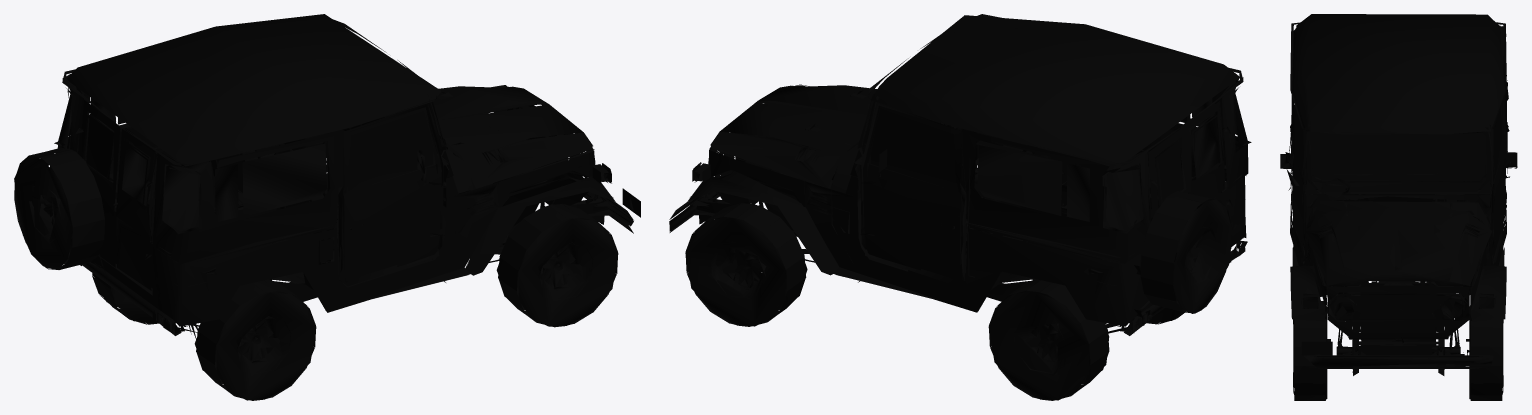
File: v_landcruiser_lod1.glb
3 renders of one model, left to right at view 1: azimuth 30°, elevation 25°; view 2: azimuth 150°, elevation 25°; view 3: azimuth 270°, elevation 25°, orthographic. The views are drawn at different scales.
Visible parts, largest first — view 1: v_landcruiser_lod1; view 2: v_landcruiser_lod1; view 3: v_landcruiser_lod1.
Boxes of the visible parts, x1,y1,x2,y2 form: v_landcruiser_lod1: (14,14,640,400); v_landcruiser_lod1: (669,14,1251,400); v_landcruiser_lod1: (1280,14,1517,400).
Bounding box in the file's own units: 4.93 × 2.49 × 2.34.
1 material, 1 textured.
